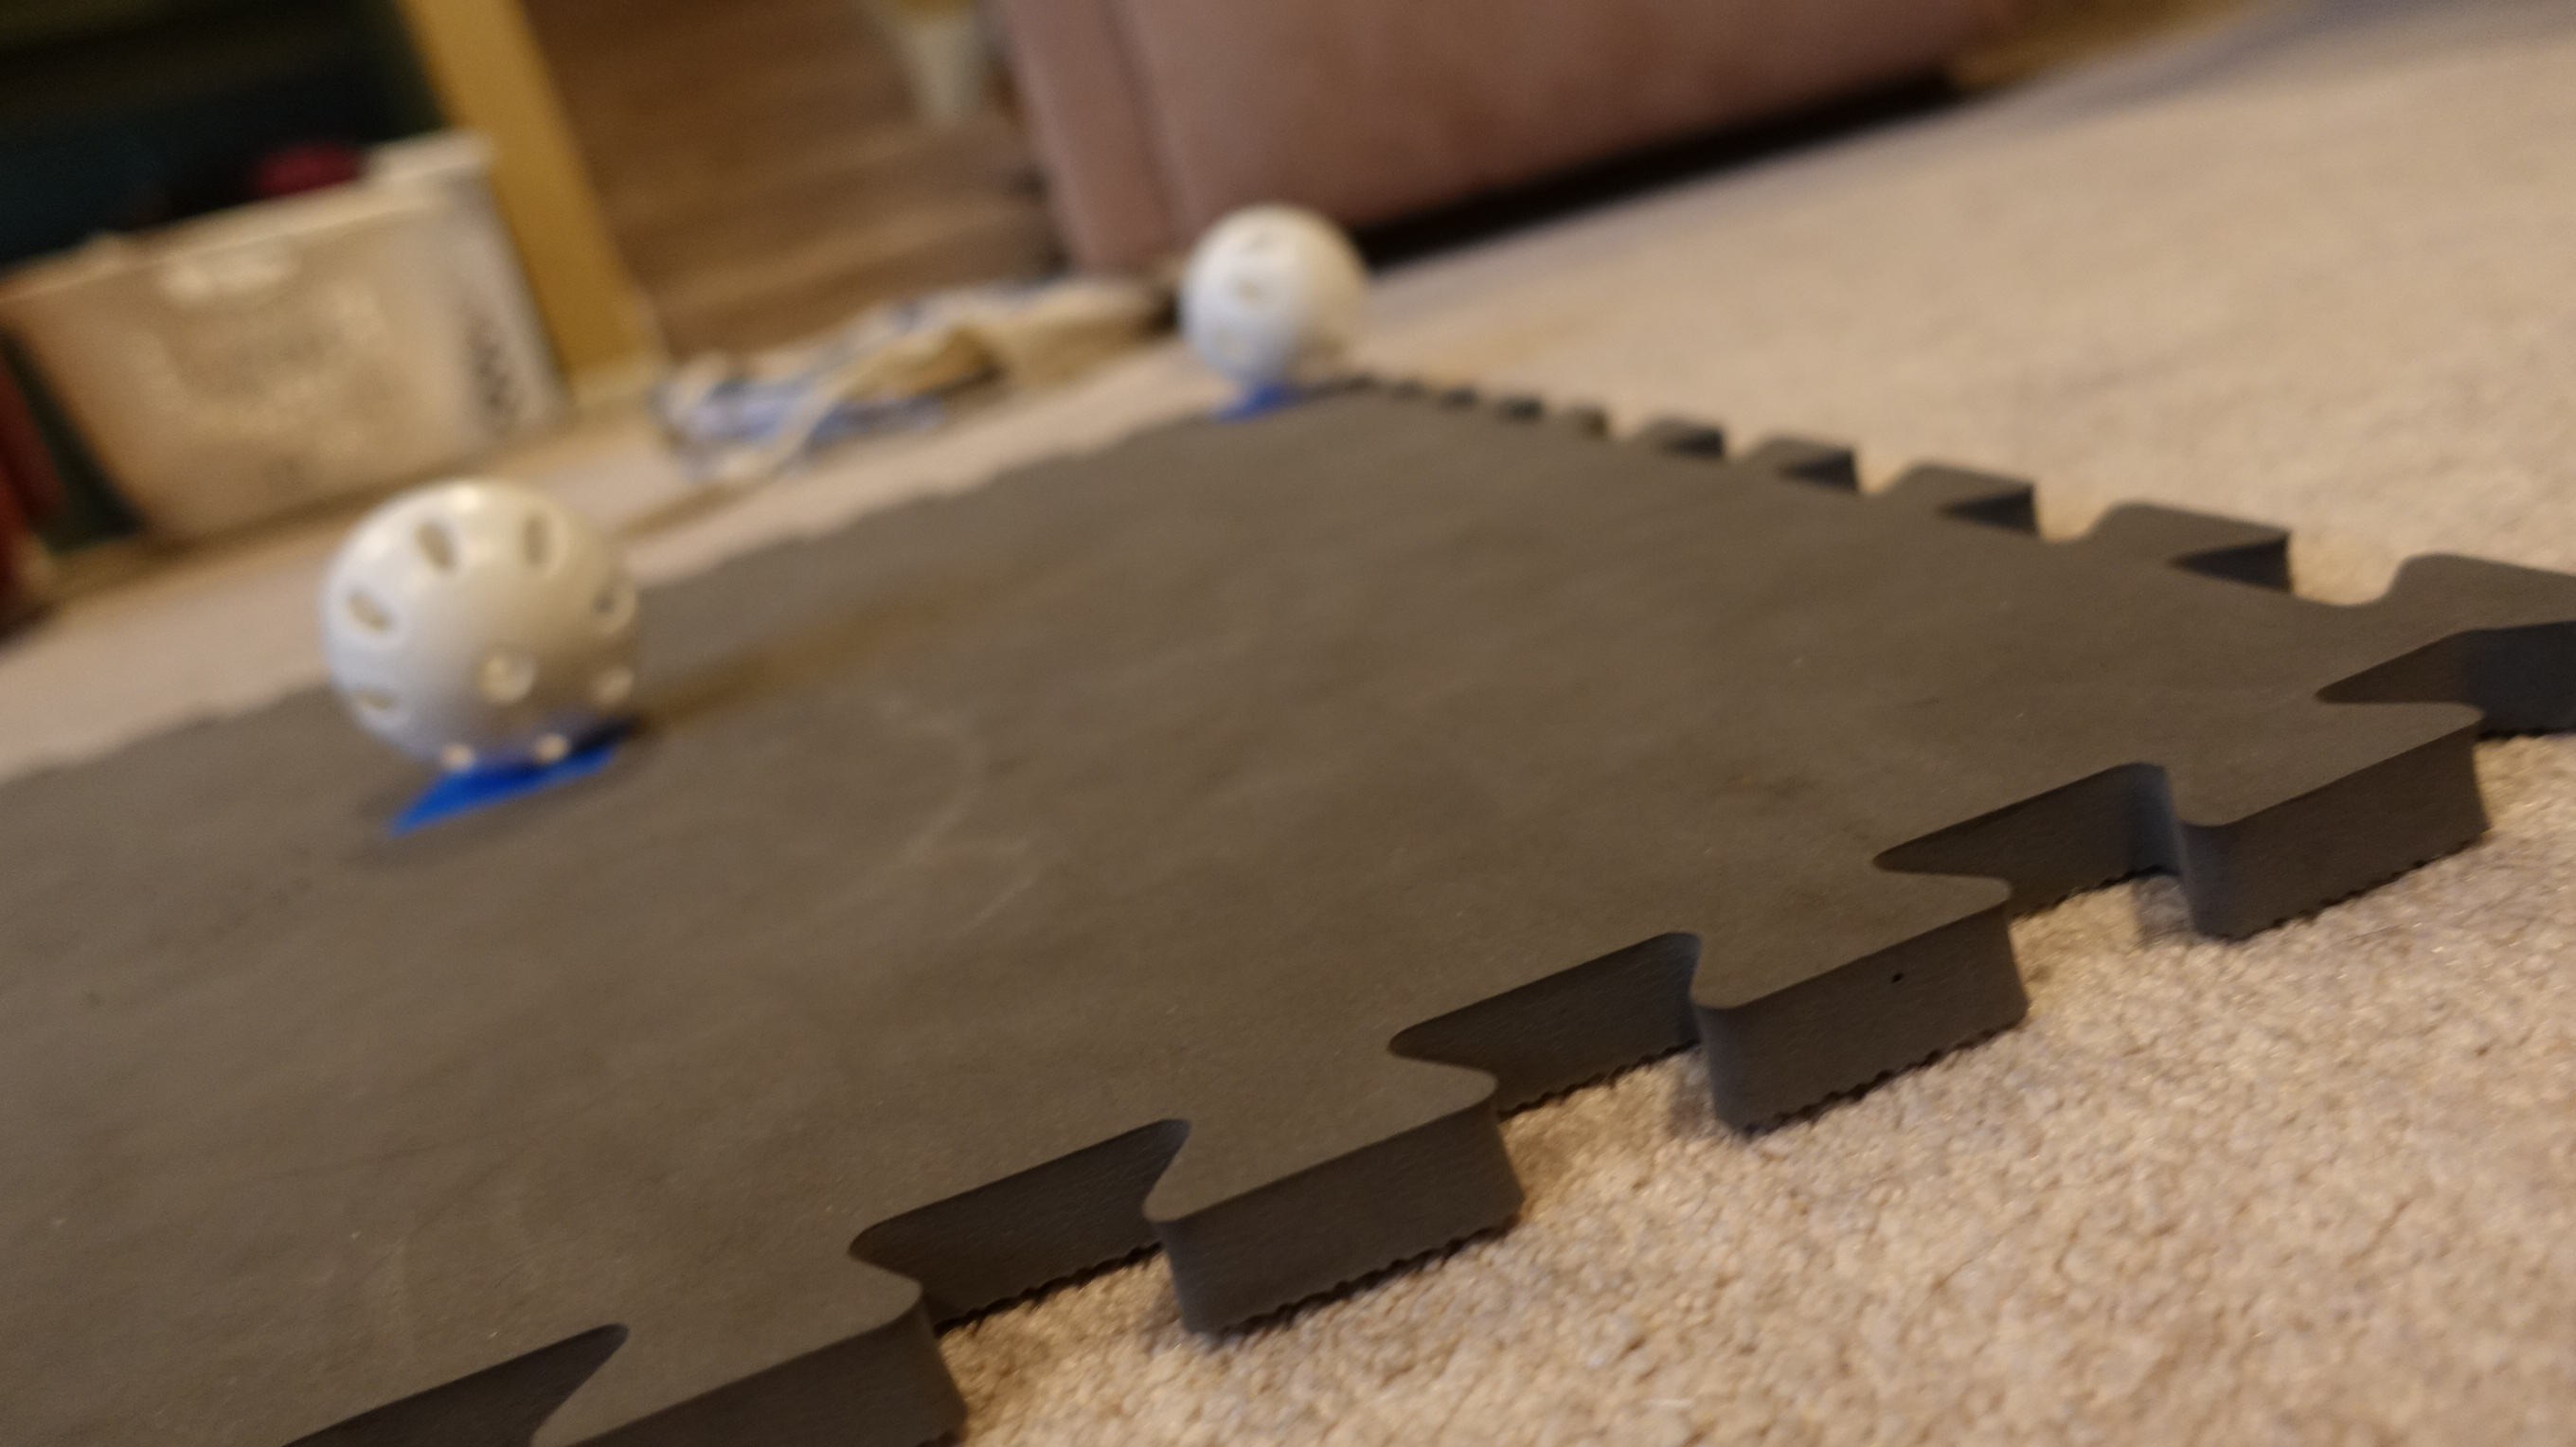silver: (320, 474, 649, 778), (1175, 198, 1366, 394)
